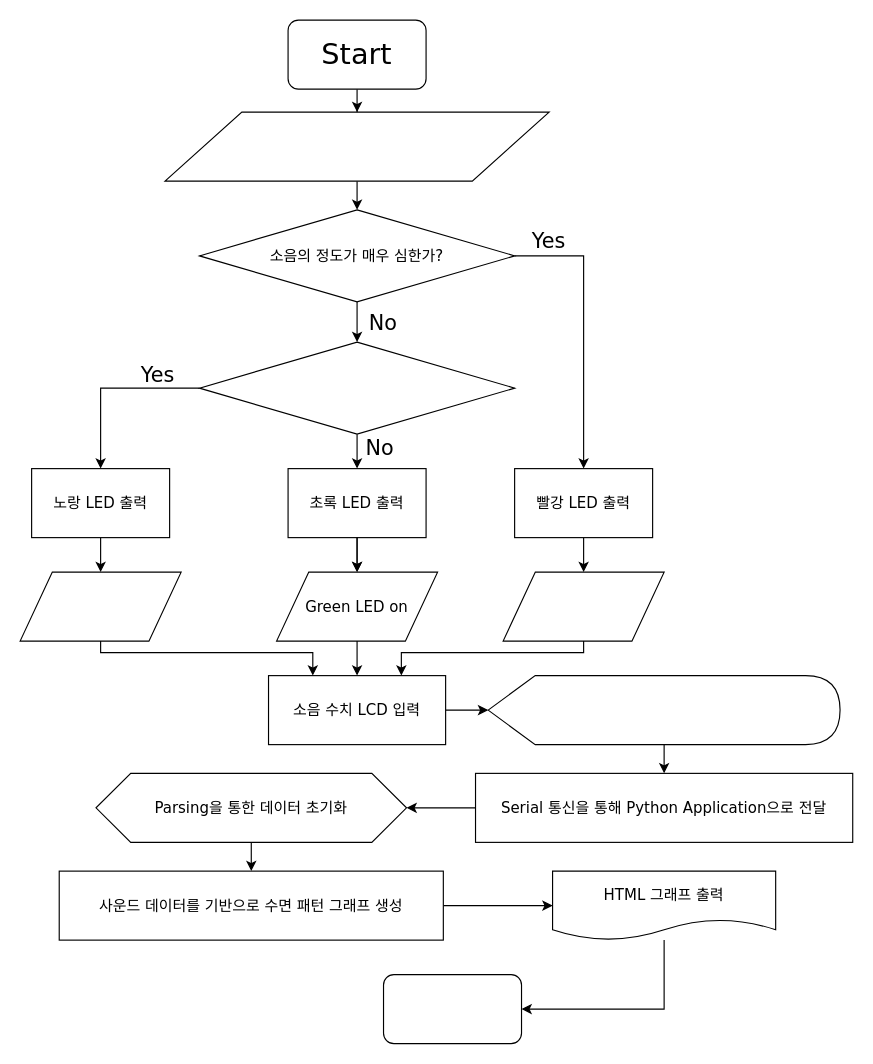
Some shapes in this 873 by 1064 pixel diagram are drawn without their labels. The box of each missing label's shape, as (x1, y1, x2, y2) in pixels:
End: (382, 973, 522, 1044)
LCD 실시간 수치 막대 그래프 출력: (487, 674, 840, 745)
Red LED on: (502, 571, 664, 641)
Yellow LED on: (19, 571, 181, 641)
사운드 센서를 통한 주변 소음 입력: (164, 111, 549, 181)
소음의 정도가 조금 심한가?: (198, 341, 515, 434)
